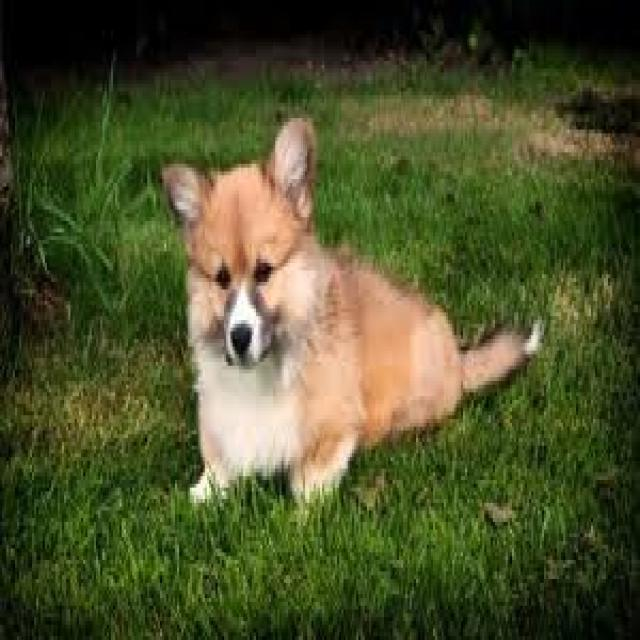CORGI: (148, 104, 537, 556)
